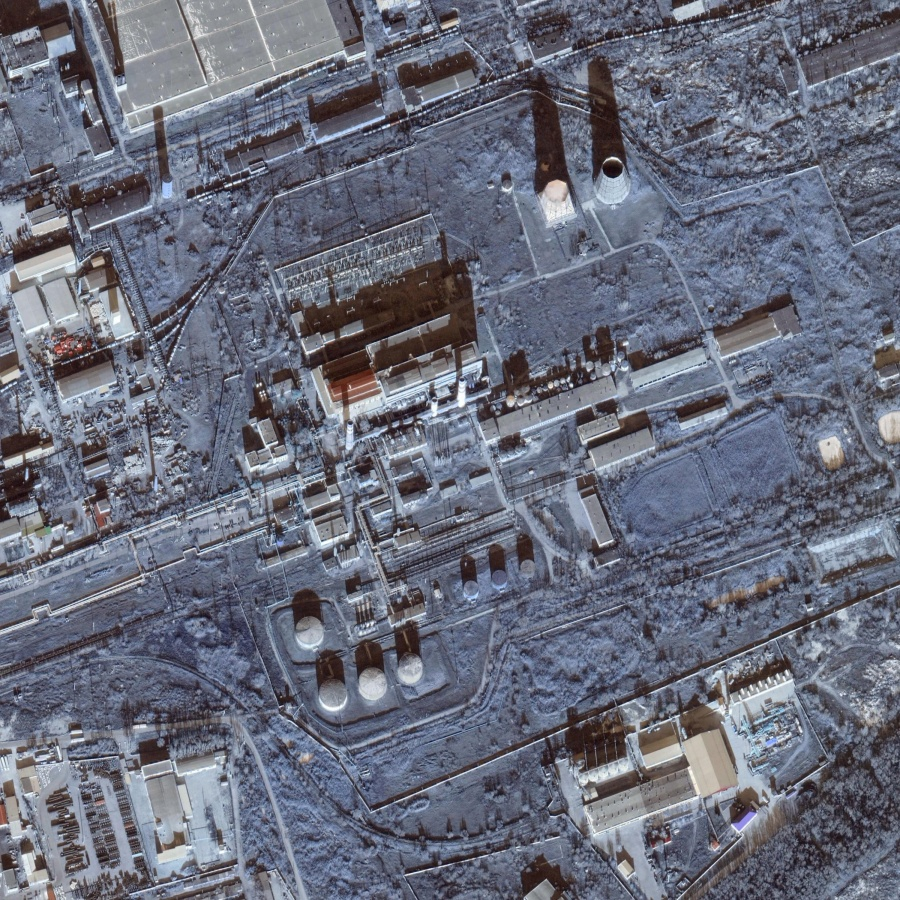PowerPlant: (274, 128, 674, 716)
